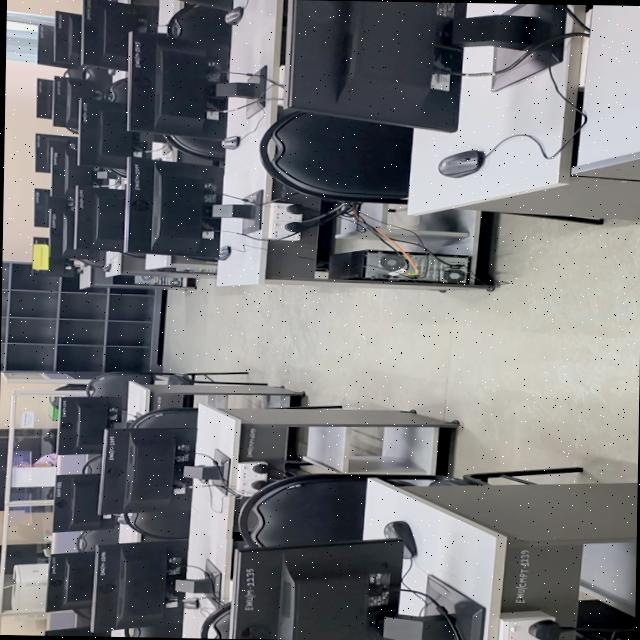Chair: (258, 112, 411, 204), (245, 474, 365, 547), (86, 371, 246, 413), (166, 5, 229, 44), (120, 509, 188, 538), (130, 407, 196, 428), (164, 136, 223, 159), (199, 603, 228, 638), (75, 530, 117, 551), (124, 623, 178, 638), (143, 395, 191, 411), (106, 77, 125, 104), (81, 455, 99, 474)
Cpu: (329, 246, 473, 284)
Monitor: (284, 0, 458, 132), (230, 539, 401, 640), (123, 158, 220, 260), (90, 541, 186, 630), (127, 32, 208, 136), (98, 428, 192, 513), (77, 98, 148, 170), (81, 0, 151, 71), (49, 197, 103, 266), (49, 76, 113, 134), (56, 396, 120, 454), (51, 474, 115, 532), (44, 551, 92, 618), (74, 187, 123, 252), (49, 147, 93, 198), (35, 24, 79, 69), (30, 237, 78, 277), (52, 11, 80, 69), (33, 134, 74, 173), (34, 78, 51, 119), (32, 188, 47, 227), (178, 0, 231, 11)
Mouse: (436, 150, 481, 178), (382, 521, 414, 557), (223, 6, 242, 25), (220, 135, 238, 149), (217, 245, 230, 260), (181, 598, 197, 609), (101, 263, 109, 272)
